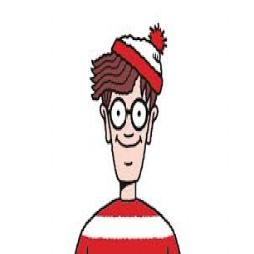wally: (73, 25, 181, 254)
